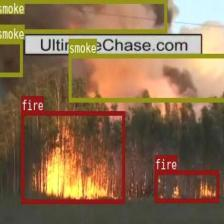fire: (20, 111, 124, 203), (154, 170, 219, 201)
smoke: (68, 53, 224, 101), (0, 0, 166, 32), (0, 39, 22, 76)
